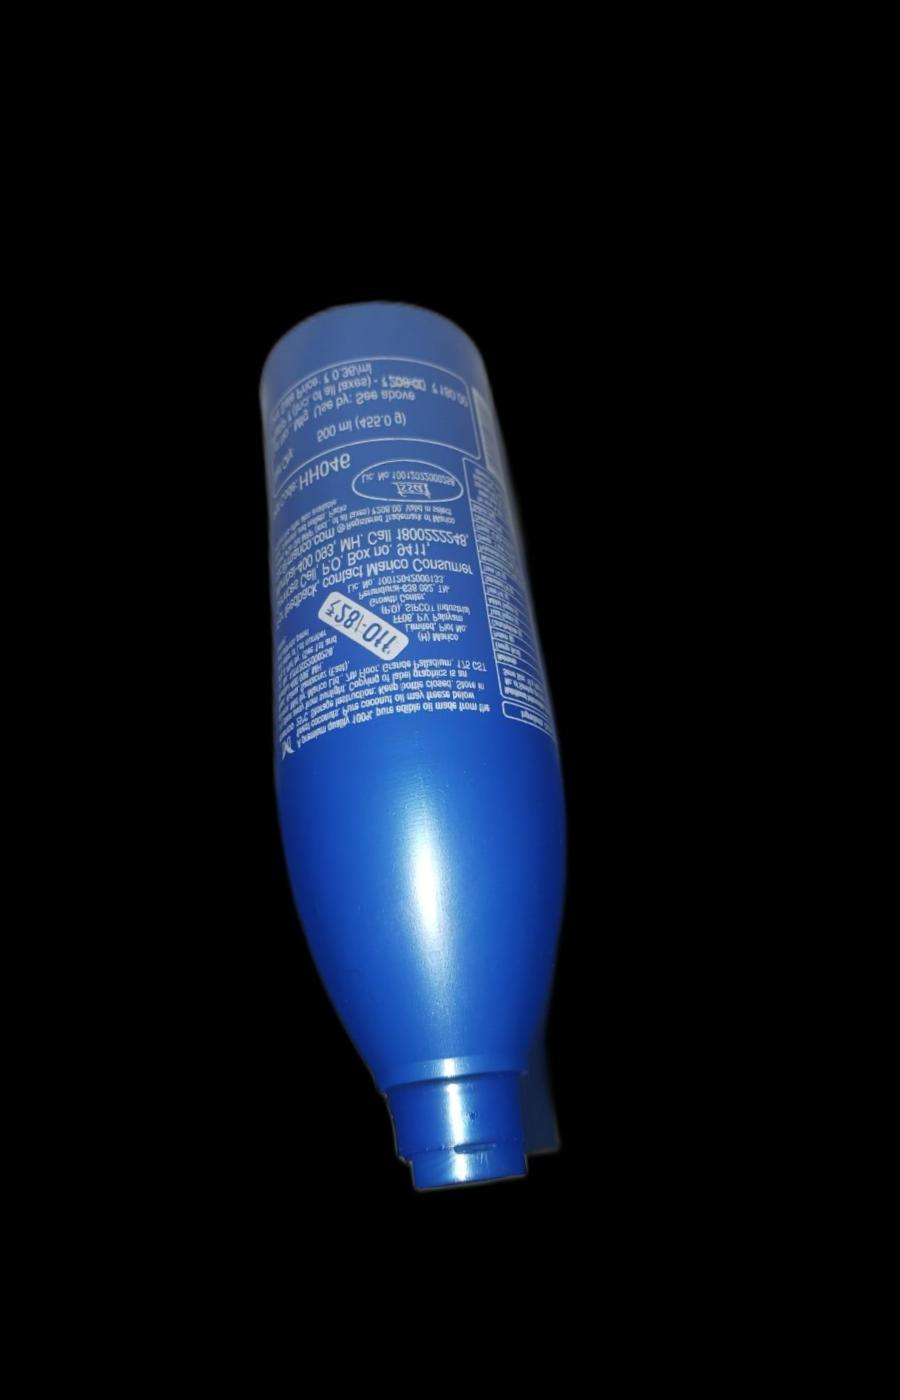Parachute Coconut Oil 600 ml - Bottle: (225, 289, 614, 1205)
